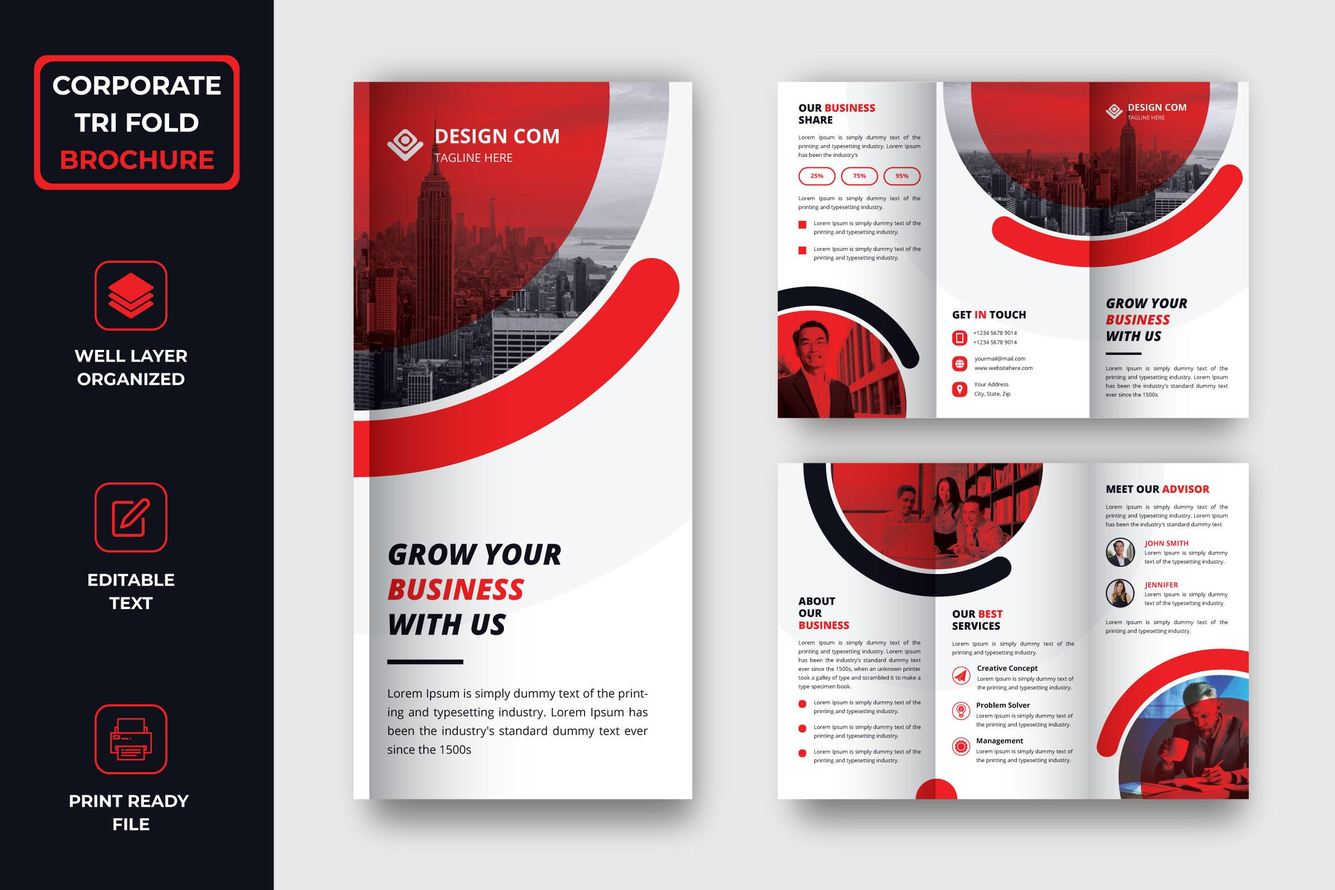paper: (353, 81, 690, 799), (778, 461, 1253, 809), (774, 81, 1250, 424)
